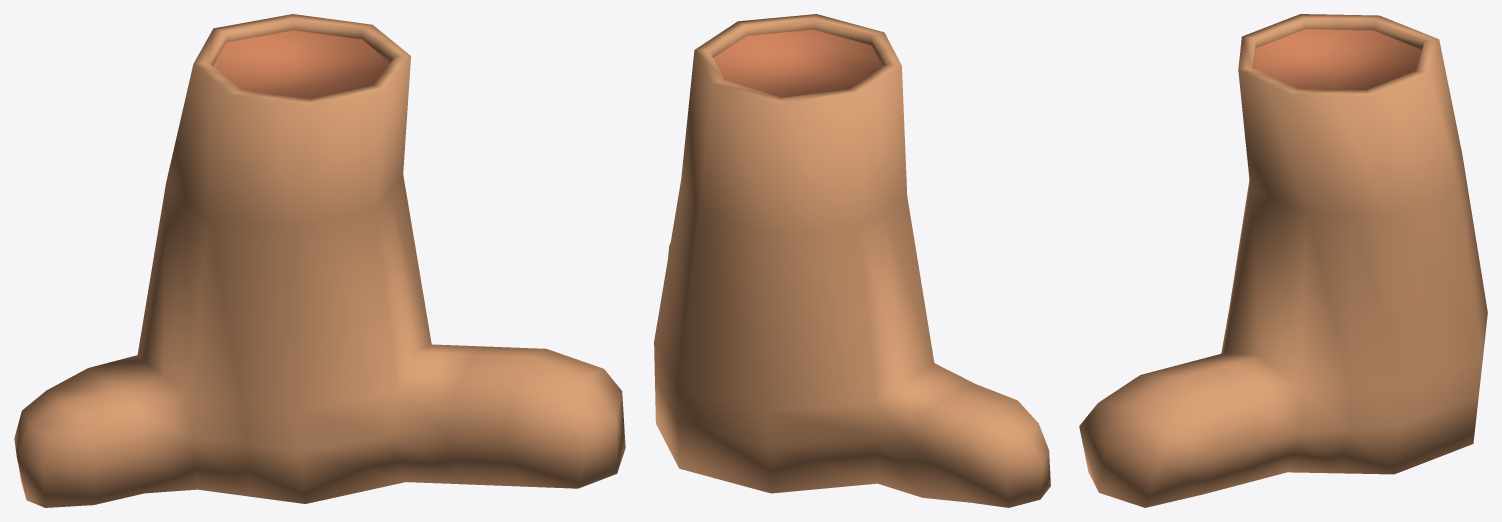
File: half tree.fbx
3 renders of one model, left to right at view 1: azimuth 30°, elevation 25°; view 2: azimuth 150°, elevation 25°; view 3: azimuth 270°, elevation 25°, orthographic. The views are drawn at different scales.
Visible parts, largest first — view 1: Cylinder.020; view 2: Cylinder.020; view 3: Cylinder.020.
Part boxes in pixels (x1=…): Cylinder.020: x1=14, y1=14, x2=625, y2=507; Cylinder.020: x1=654, y1=14, x2=1050, y2=507; Cylinder.020: x1=1079, y1=14, x2=1487, y2=507.
Bounding box in the file's own units: 165 × 124 × 124.
